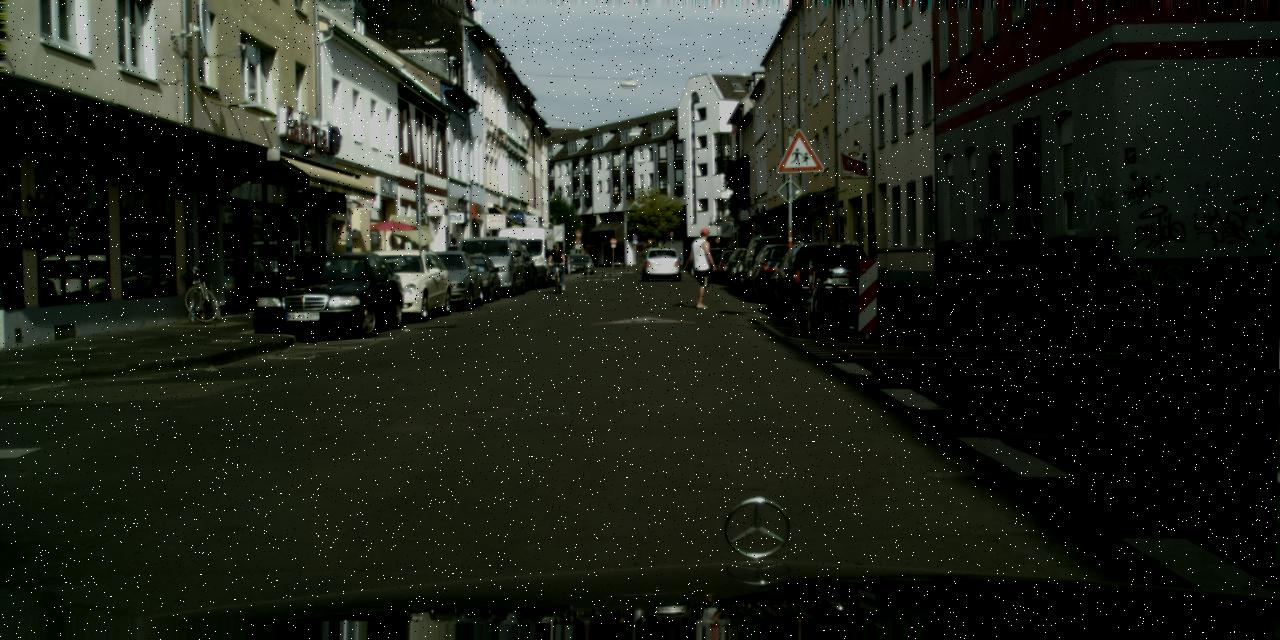ped: (687, 227, 719, 306), (547, 242, 565, 285)
